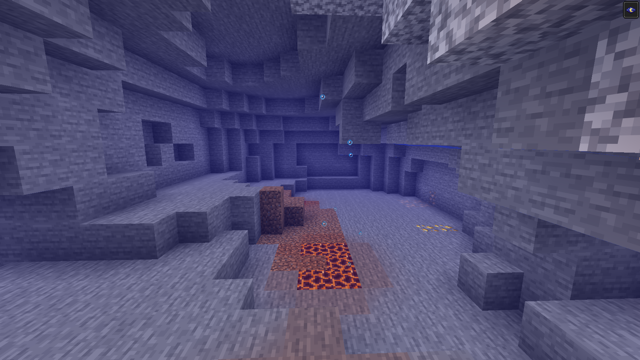gold: (413, 221, 459, 234)
iron: (399, 191, 438, 211)
